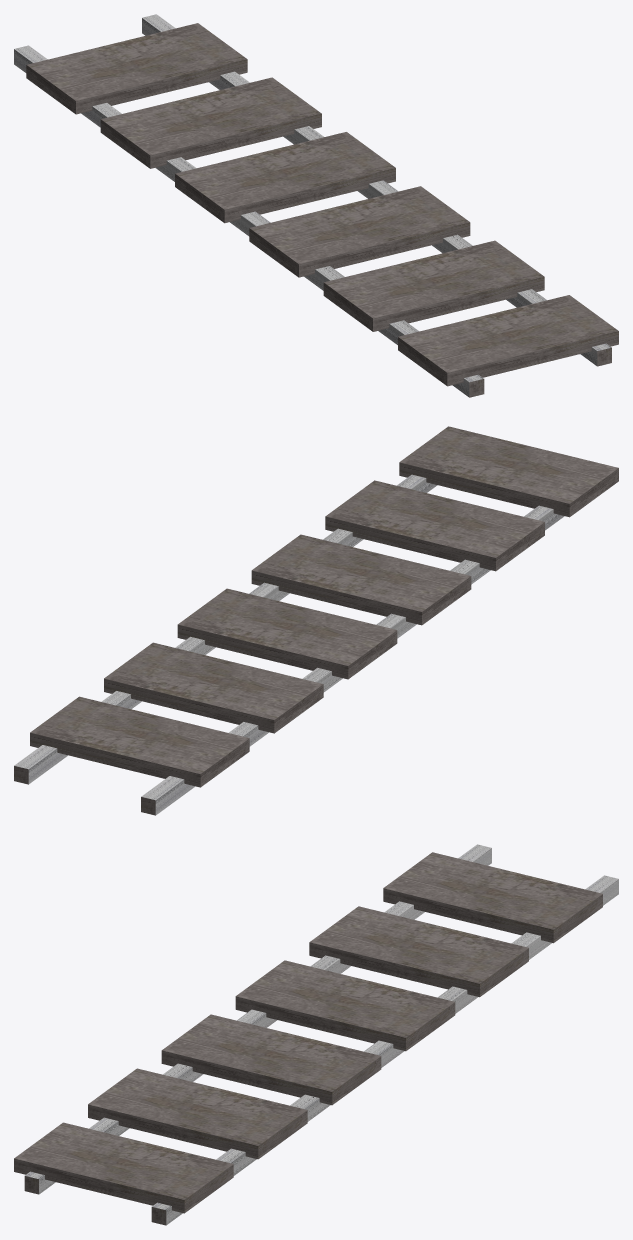
Rendered from bridge.fbx.
The picture shows the model from 3 angles, top to bottom: view 1: azimuth 30°, elevation 25°; view 2: azimuth 150°, elevation 25°; view 3: azimuth 330°, elevation 25°; orthographic projection.
Visible parts, largest first — view 1: Cube; view 2: Cube; view 3: Cube.
Boxes of the visible parts, x1=… form: Cube: x1=14, y1=14, x2=618, y2=397; Cube: x1=14, y1=426, x2=618, y2=815; Cube: x1=14, y1=844, x2=618, y2=1225.
Size of the model in its own units: 400 by 54.77 by 1839.
